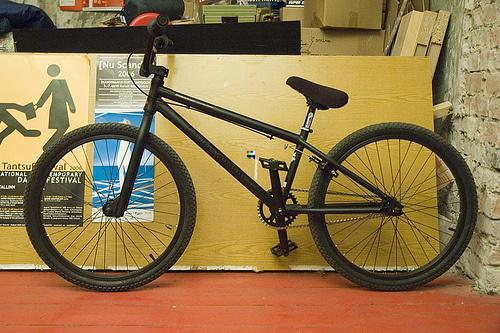car: (23, 15, 479, 296)
